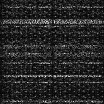lte: (1, 18, 104, 24), (1, 74, 103, 78)
